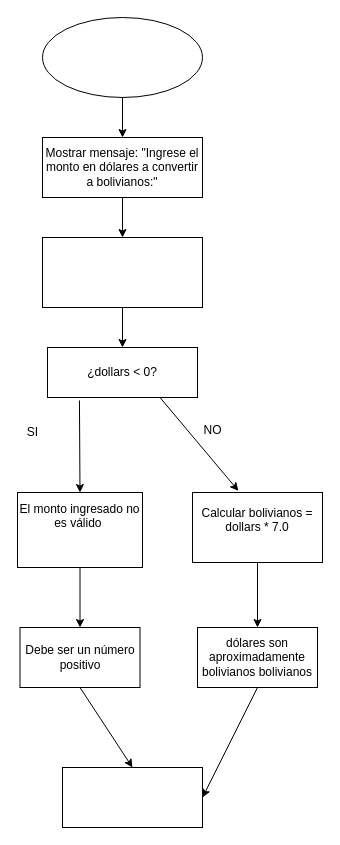
This 340x845 diagram has some shape labels left out. Here are the shapes that lost their labels. From the top down, the centre of each, then its label:
At point 122,57: "INICIO".
At point 122,272: "Leer input del usuario en la variable dollars".
At point 132,797: "FIN DEL PROGRAMA".
